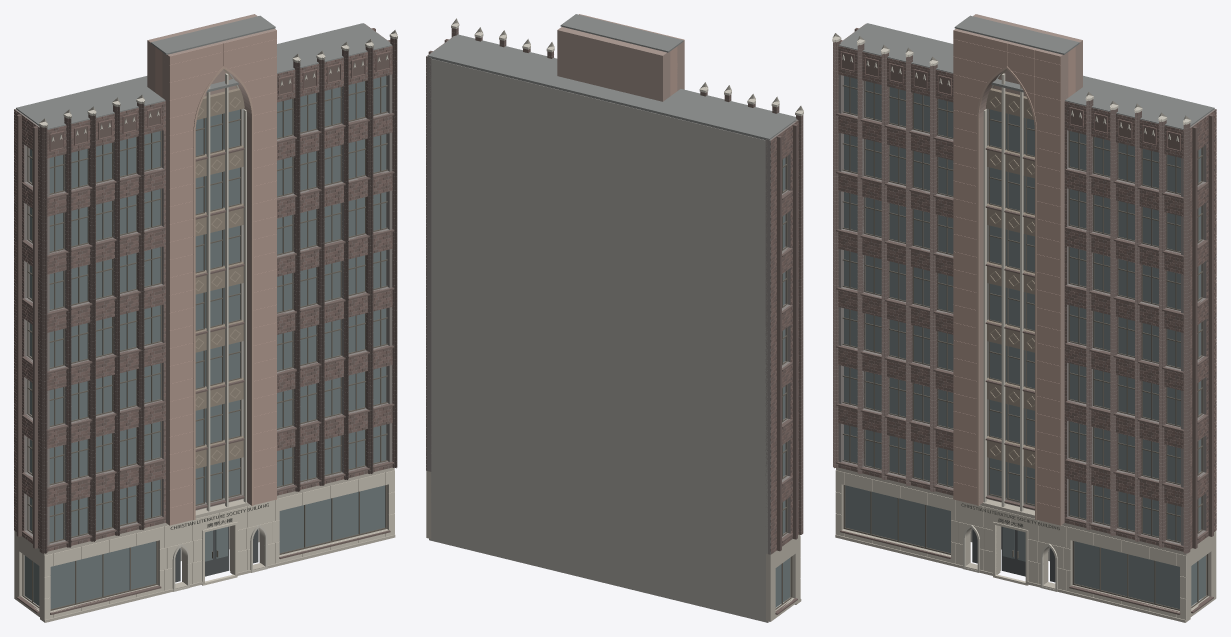
Rendered from huangpu-christian-literature-building-raw.glb.
3 views of the same model, side by side, from view 1: azimuth 30°, elevation 25°; view 2: azimuth 150°, elevation 25°; view 3: azimuth 330°, elevation 25° (orthographic).
Parts seen in each view (by area): view 1: 广学大楼虎丘路西立面; view 2: 广学大楼虎丘路西立面; view 3: 广学大楼虎丘路西立面.
Part boxes in pixels (x1,y1,x2,y2): 广学大楼虎丘路西立面: (14, 14, 397, 622); 广学大楼虎丘路西立面: (426, 14, 803, 622); 广学大楼虎丘路西立面: (832, 14, 1216, 622).
Size of the model in its own units: 19.51 by 28.27 by 3.26.
